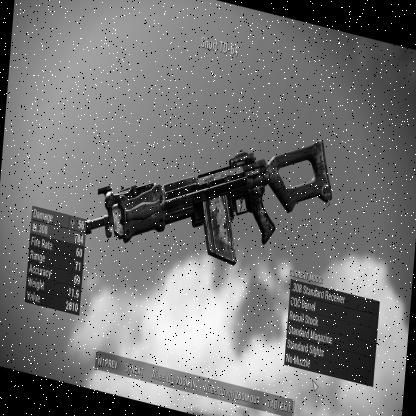rifle: (74, 75, 338, 297)
